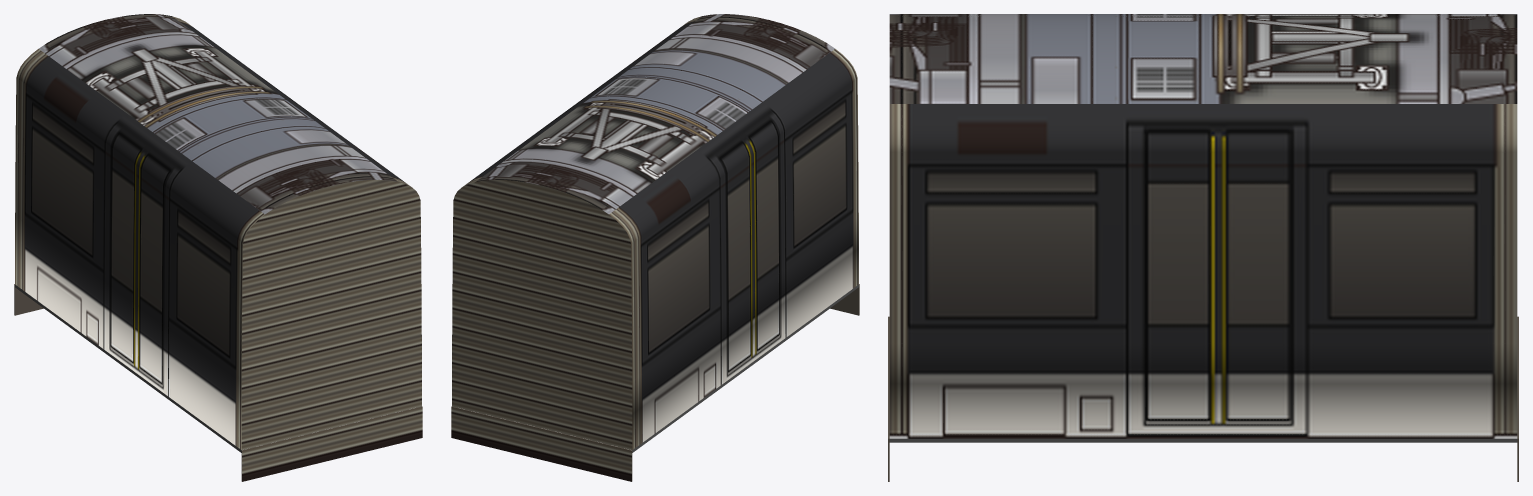
The model's file is car2.glb.
3 renders of one model, left to right at view 1: azimuth 30°, elevation 25°; view 2: azimuth 150°, elevation 25°; view 3: azimuth 270°, elevation 25°, orthographic. The views are drawn at different scales.
Parts seen in each view (by area): view 1: sapporosiden-a1200-car2; view 2: sapporosiden-a1200-car2; view 3: sapporosiden-a1200-car2.
Boxes of the visible parts, x1=… form: sapporosiden-a1200-car2: x1=14, y1=14, x2=422, y2=481; sapporosiden-a1200-car2: x1=451, y1=14, x2=859, y2=481; sapporosiden-a1200-car2: x1=888, y1=14, x2=1518, y2=481.
Bounding box in the file's own units: 2.3 × 3.34 × 5.03.
9 materials, 8 textured.
